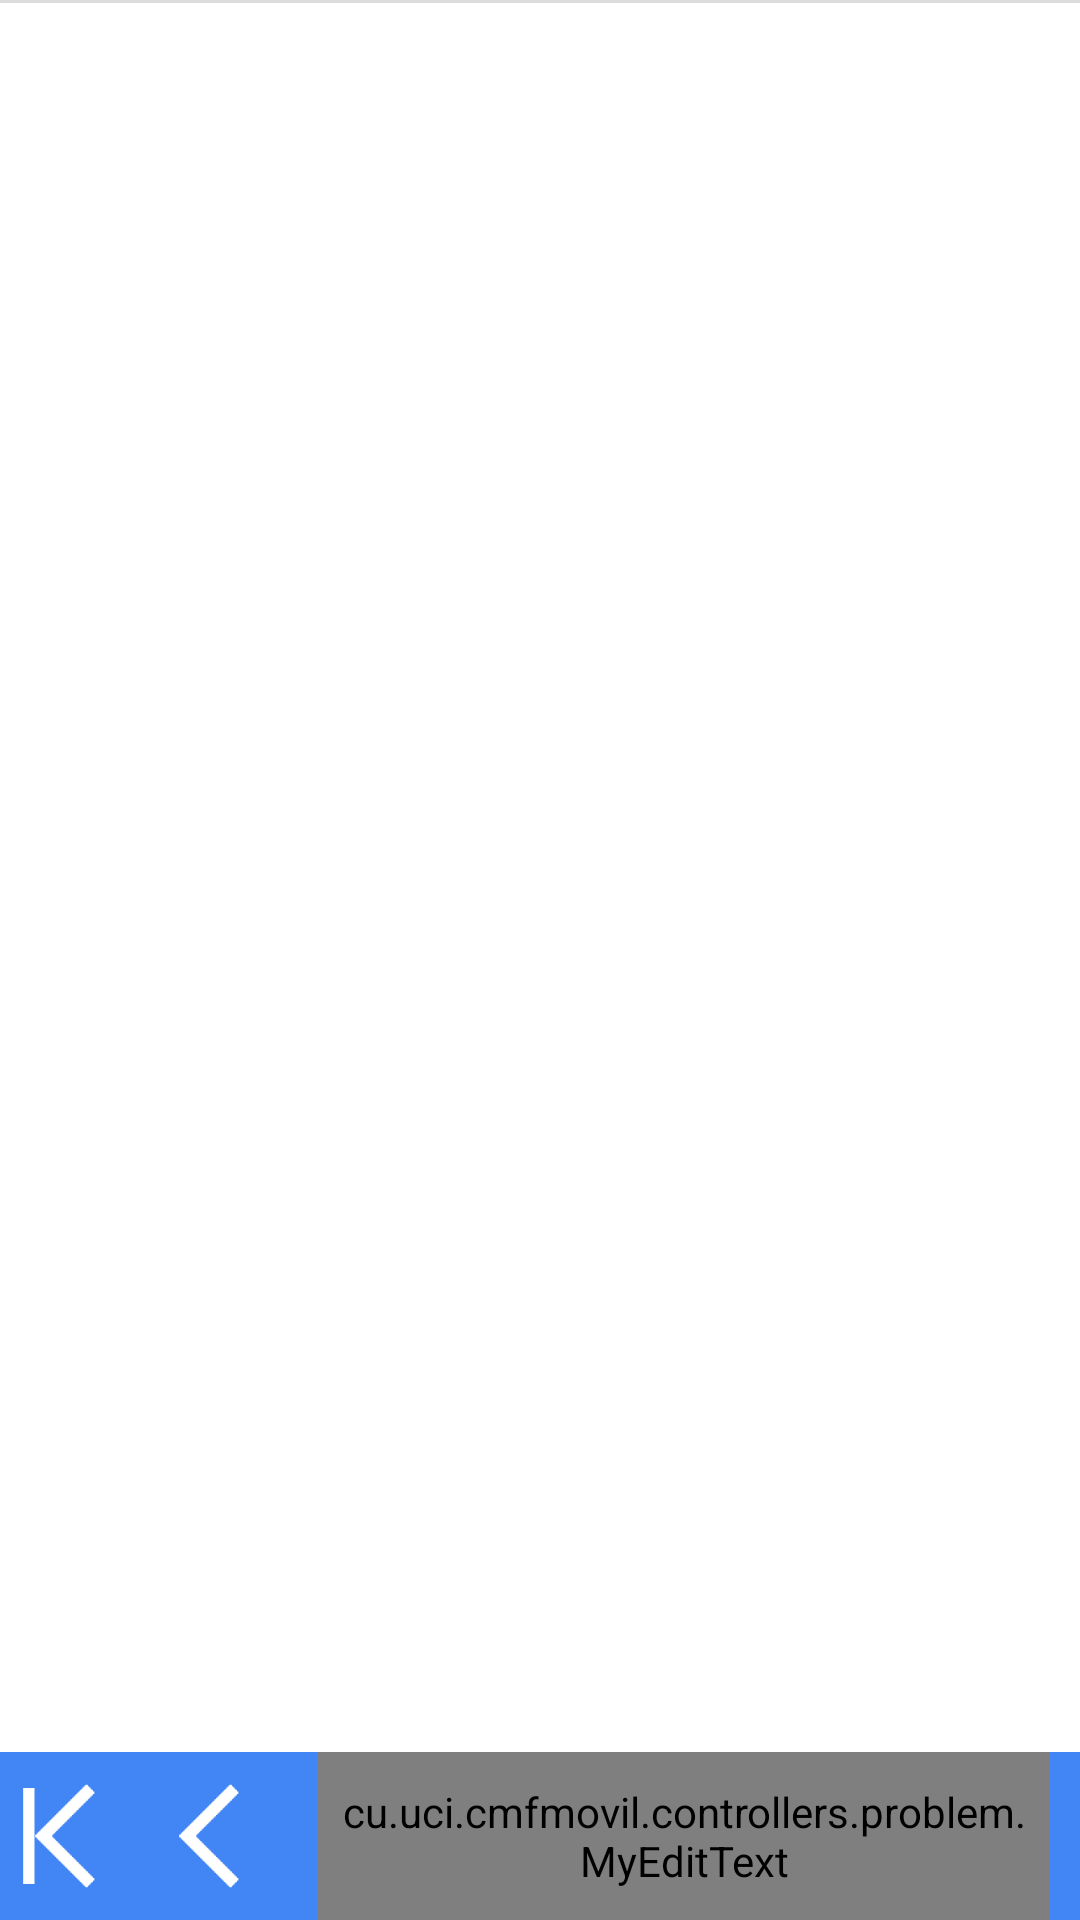

Icon bounding boxes for this 1080x1920 phone screenshot, format rect(x1, y1, x2, y2):
back: rect(179, 1784, 239, 1888)
start: rect(23, 1784, 95, 1888)
